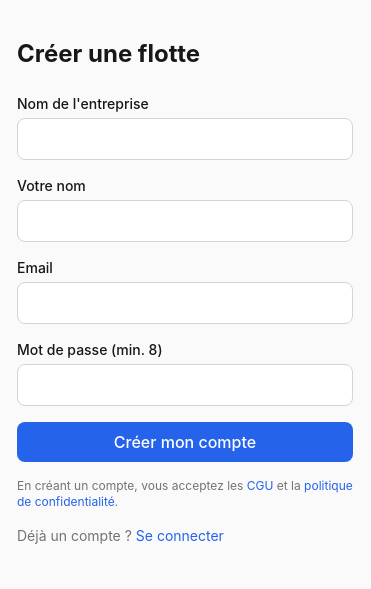
Test: RegisterPage › shows an error when registration fails
In the field labelled "Nom de l'entreprise": [185, 139] box top-left (17, 118), bottom-right (353, 160), type "Acme"
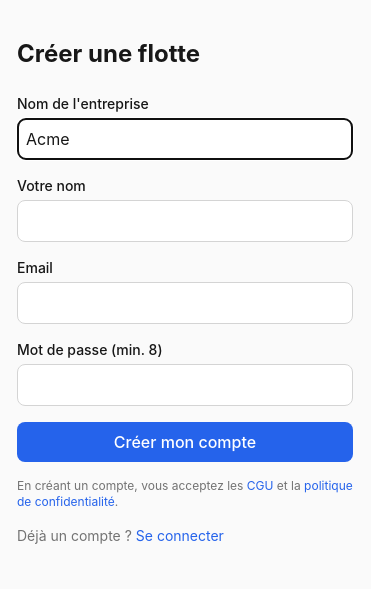
In the field labelled "Votre nom": [185, 221] box top-left (17, 200), bottom-right (353, 242), type "Khaled"
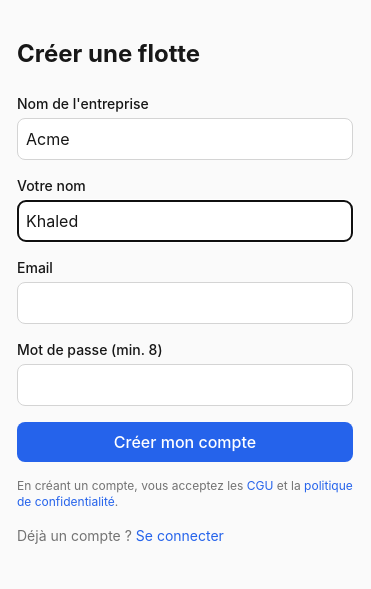
In the field labelled "Email": [185, 303] box top-left (17, 282), bottom-right (353, 324), type "dup@acme.dz"
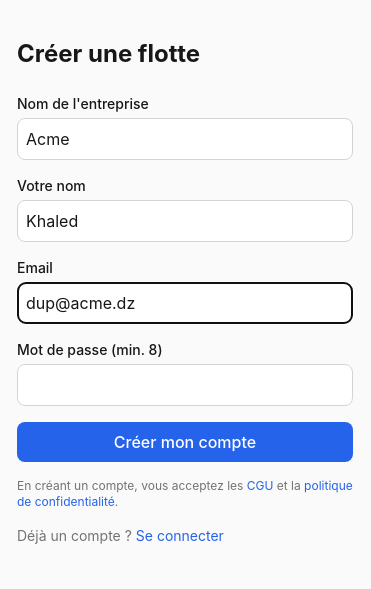
In the password field labelled "Mot de passe (min. 8)": [185, 385] box top-left (17, 364), bottom-right (353, 406), type "supersecret"
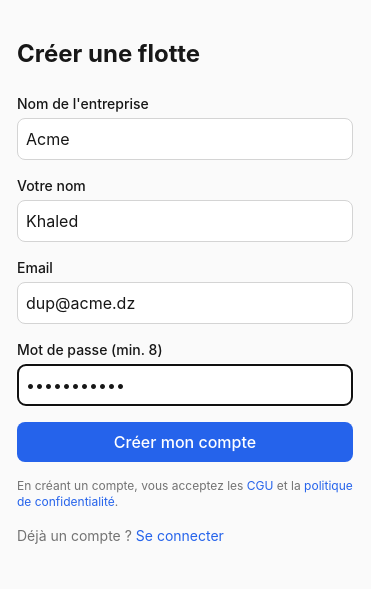
Click the button "Créer mon compte": [185, 442] box top-left (17, 422), bottom-right (353, 462)
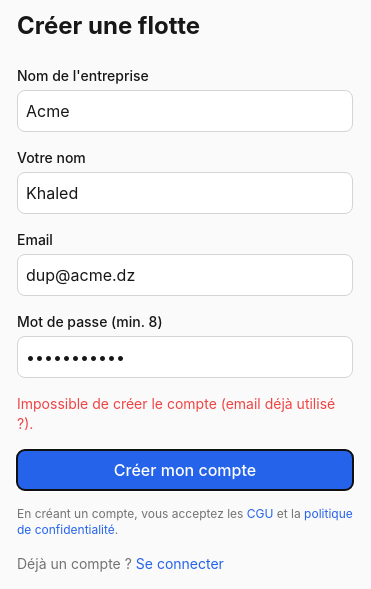
Now the message shows "Impossible", box top-left (17, 395), bottom-right (335, 432)
